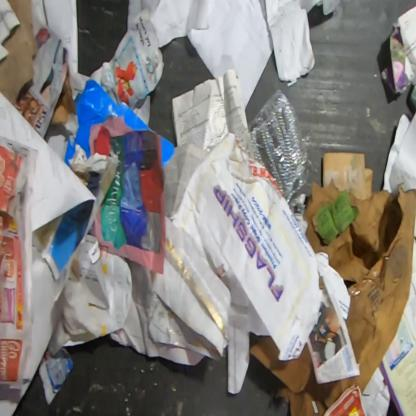cardboard: (248, 177, 416, 416), (64, 78, 175, 170), (322, 152, 374, 200), (49, 64, 75, 126)
rigid_plastic: (235, 89, 310, 200)
